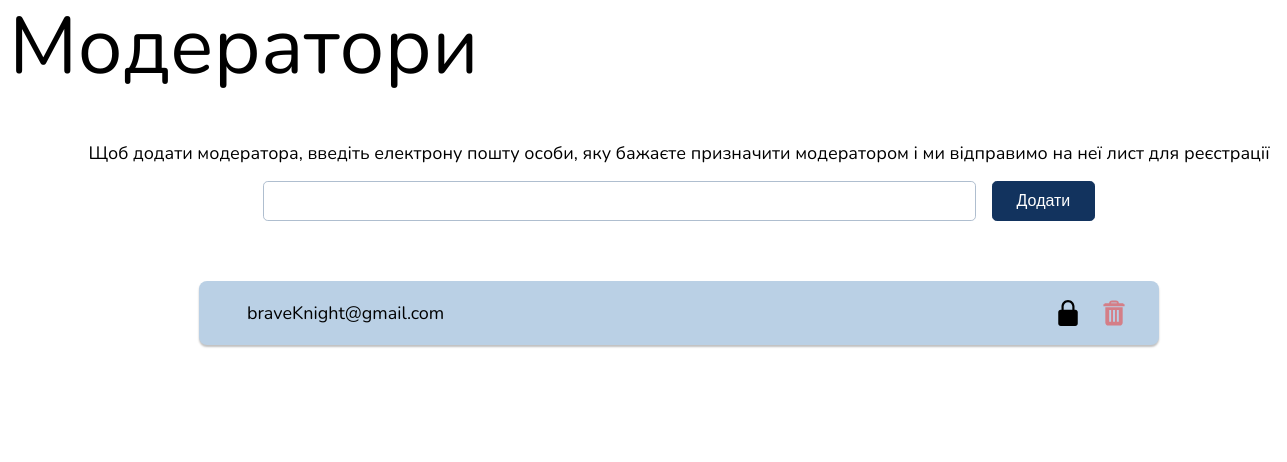
Test case: Block/Unblock moderator on the Moderators page › accept unblocking of a moderator after click on the unblock icon
Click the element with test id "lockSign". click: (1068, 313)
box: [1055,300,1081,326]
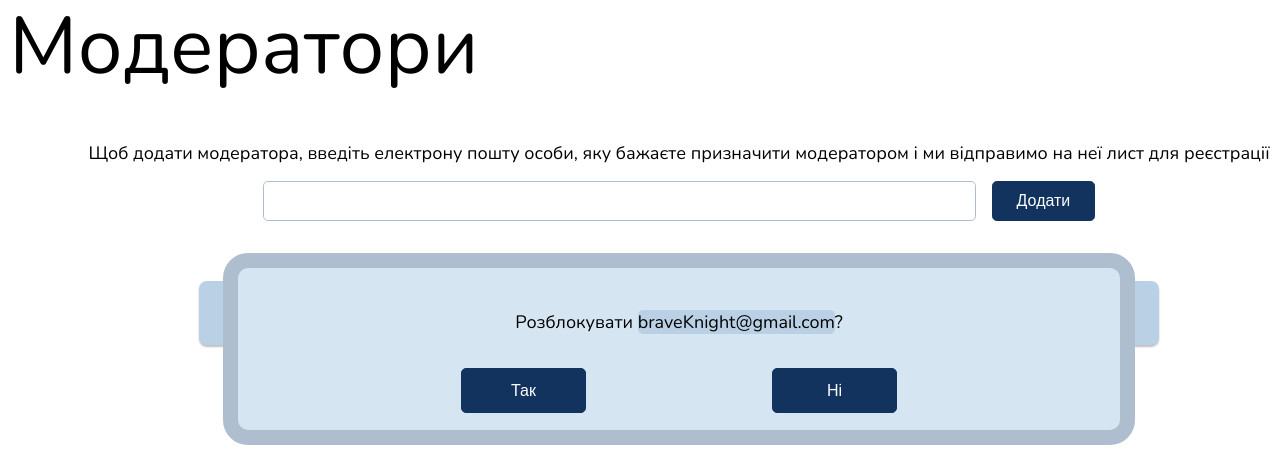
Expected: the element with test id "confirmationBox" is shown, [223,253,1135,445]
Expected: the button "Так" is shown
Click the button "Так". click: (524, 390)
box: [461,368,586,413]
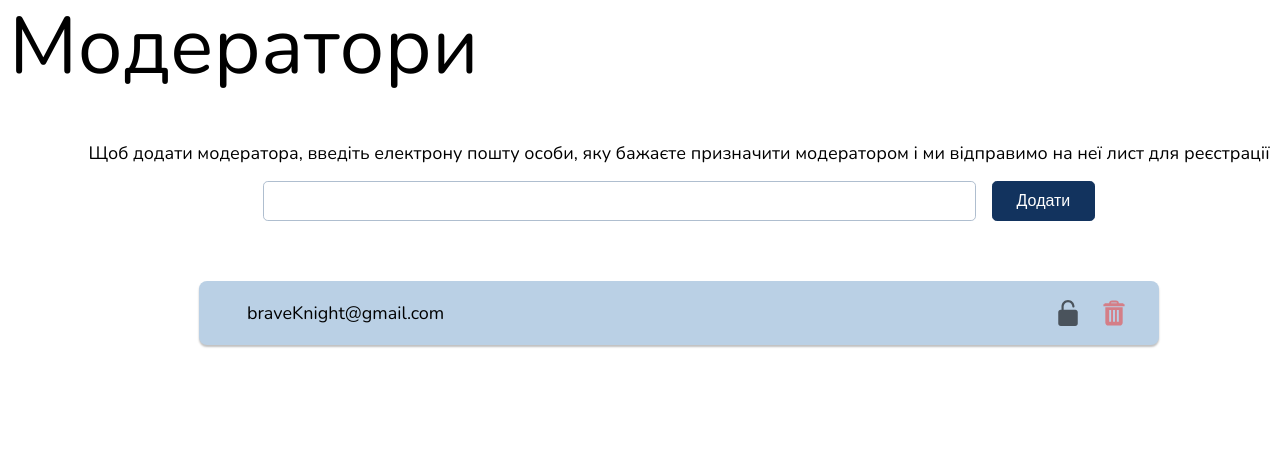
Expected: the element with test id "confirmationBox" is gone
